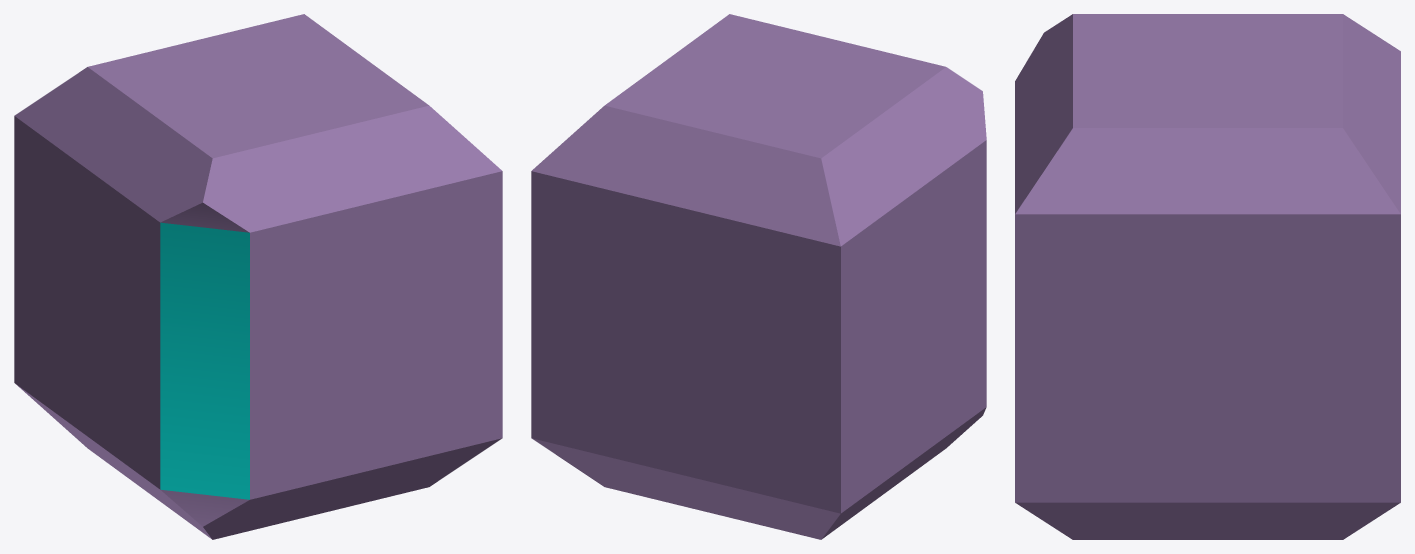
Rendered from Environment_Base_StackA_B.fbx.
3 renders of one model, left to right at view 1: azimuth 30°, elevation 25°; view 2: azimuth 150°, elevation 25°; view 3: azimuth 270°, elevation 25°, orthographic. The views are drawn at different scales.
Parts seen in each view (by area): view 1: Environment_Base_StackA_B; view 2: Environment_Base_StackA_B; view 3: Environment_Base_StackA_B.
Part boxes in pixels (<box>): Environment_Base_StackA_B: <box>14,14,502,539</box>; Environment_Base_StackA_B: <box>531,14,986,539</box>; Environment_Base_StackA_B: <box>1015,14,1400,539</box>.
Size of the model in its own units: 8.61 by 10.14 by 8.61.
